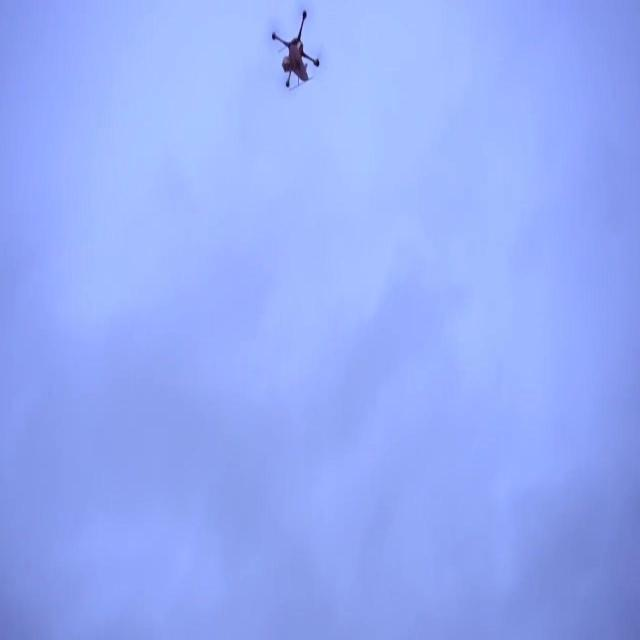drone: (270, 8, 322, 90)
